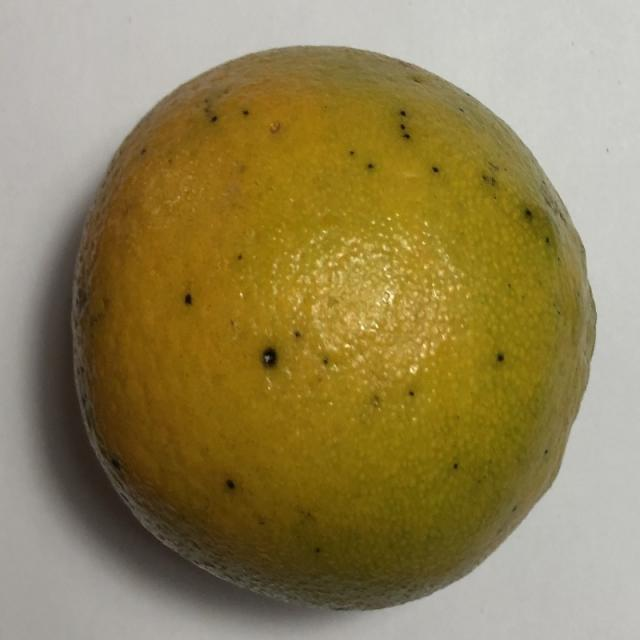blackspot: (60, 36, 607, 622)
